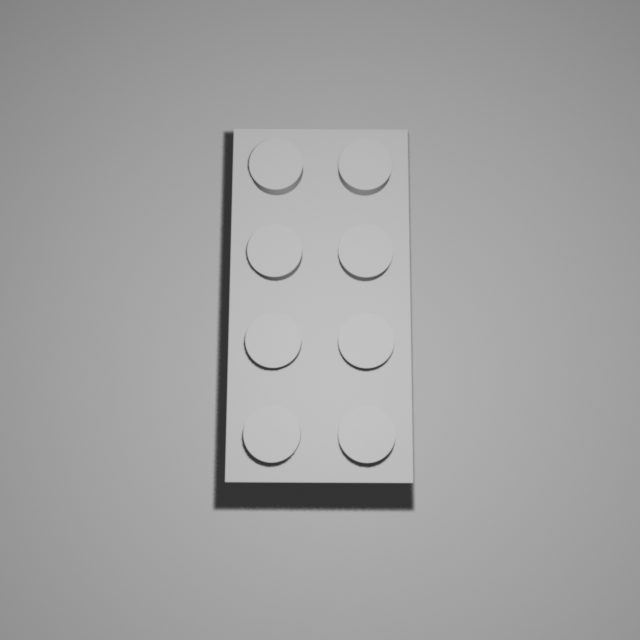lego_2x4: (223, 122, 415, 484)
